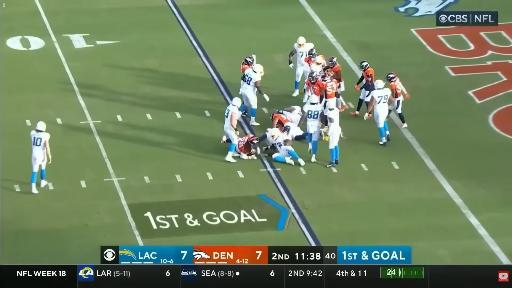Helmet: (308, 71, 319, 84), (253, 64, 264, 76), (270, 128, 280, 139), (314, 55, 325, 65), (308, 48, 317, 60), (244, 56, 254, 66), (248, 136, 259, 145), (320, 72, 331, 81), (309, 94, 318, 105), (360, 61, 369, 71), (374, 80, 384, 89), (297, 36, 306, 46), (36, 122, 46, 131), (232, 98, 241, 107), (387, 73, 396, 82), (329, 56, 337, 66), (283, 126, 290, 134), (270, 114, 275, 120)
Jersey: (241, 68, 261, 93), (31, 131, 50, 156), (294, 43, 313, 66), (372, 88, 391, 110), (282, 106, 302, 124), (304, 104, 322, 124), (306, 80, 322, 102), (236, 135, 254, 154), (268, 132, 289, 148), (306, 55, 325, 72), (272, 114, 289, 131), (363, 68, 375, 91), (225, 105, 238, 126), (326, 64, 342, 81), (322, 80, 337, 98), (307, 80, 323, 96), (390, 78, 402, 99), (327, 109, 339, 129), (241, 62, 251, 73)
Player: (240, 64, 269, 125), (365, 80, 391, 146), (31, 122, 51, 193), (289, 37, 313, 96), (299, 103, 322, 162), (271, 127, 305, 166), (351, 61, 375, 116), (324, 56, 347, 111), (222, 98, 241, 162), (387, 73, 409, 127), (326, 103, 341, 167), (271, 113, 306, 140), (260, 113, 289, 145), (260, 128, 288, 155), (234, 135, 259, 159), (303, 71, 322, 102), (275, 106, 302, 125), (271, 114, 289, 131), (241, 54, 256, 73), (308, 56, 325, 72), (241, 55, 255, 74)
